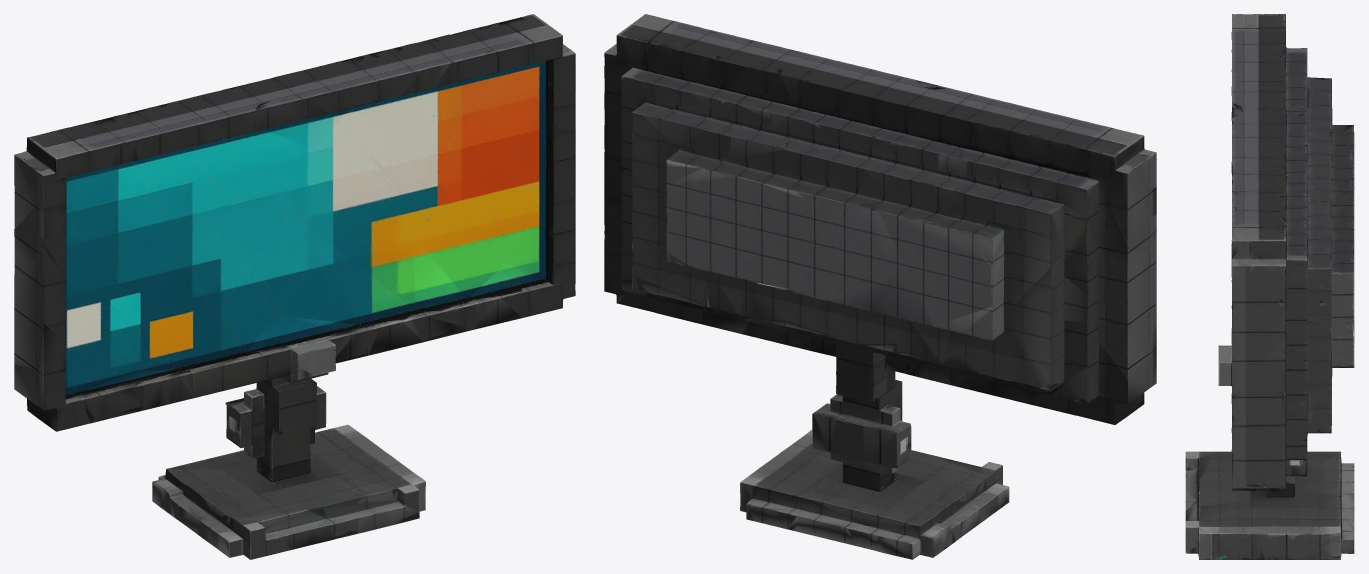
File: desktop_monitor.glb
3 renders of one model, left to right at view 1: azimuth 30°, elevation 25°; view 2: azimuth 150°, elevation 25°; view 3: azimuth 270°, elevation 25°, orthographic. The views are drawn at different scales.
Bounding box in the file's own units: 2 × 1.52 × 0.5997.
1 material, 1 textured.
